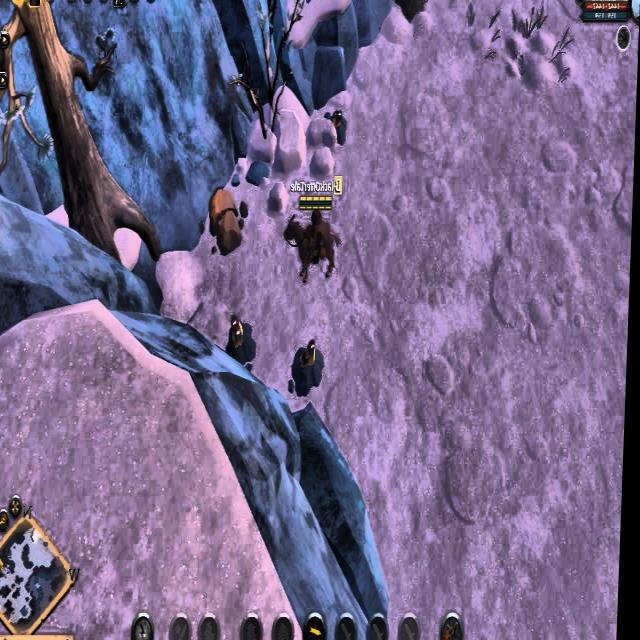copperore: (290, 338, 329, 398), (226, 312, 260, 369), (321, 104, 353, 144)
limestone: (207, 180, 252, 258)
